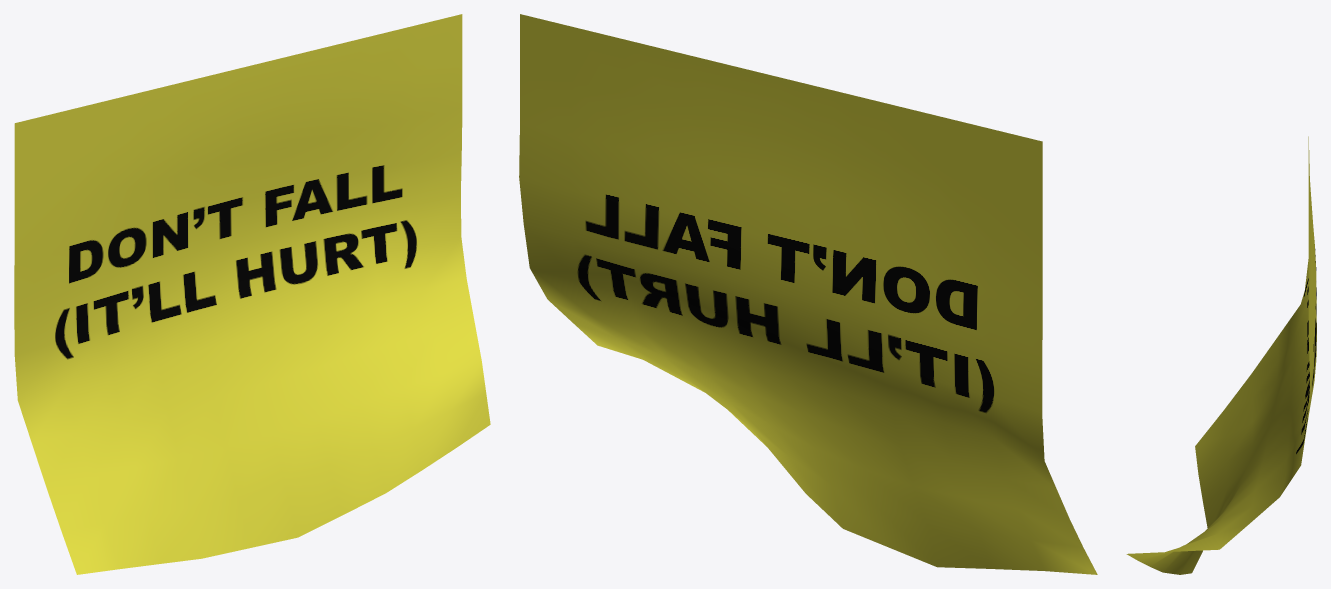
The model's file is DONTFALL 1.fbx.
3 views of the same model, side by side, from view 1: azimuth 30°, elevation 25°; view 2: azimuth 150°, elevation 25°; view 3: azimuth 270°, elevation 25° (orthographic). The views are drawn at different scales.
Visible parts, largest first — view 1: Plane; view 2: Plane; view 3: Plane.
Part boxes in pixels (<box>): Plane: <box>14,14,490,574</box>; Plane: <box>519,14,1097,574</box>; Plane: <box>1126,136,1316,574</box>.
Size of the model in its own units: 200 by 185 by 71.22.
